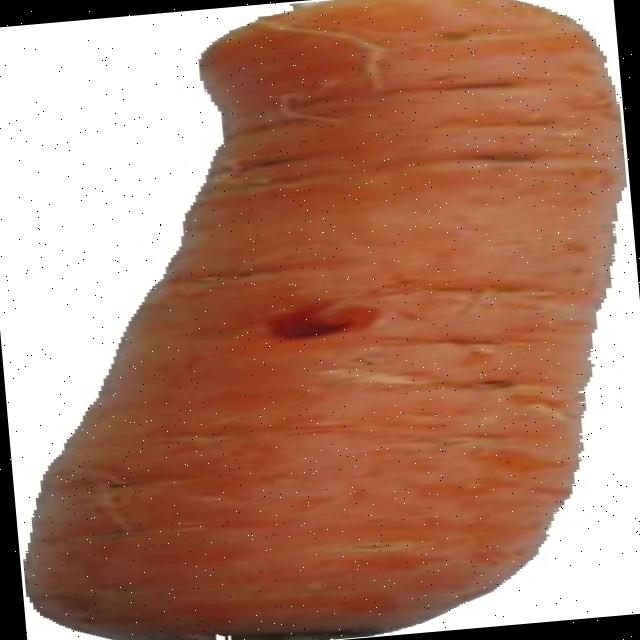carrot: (27, 0, 621, 640)
